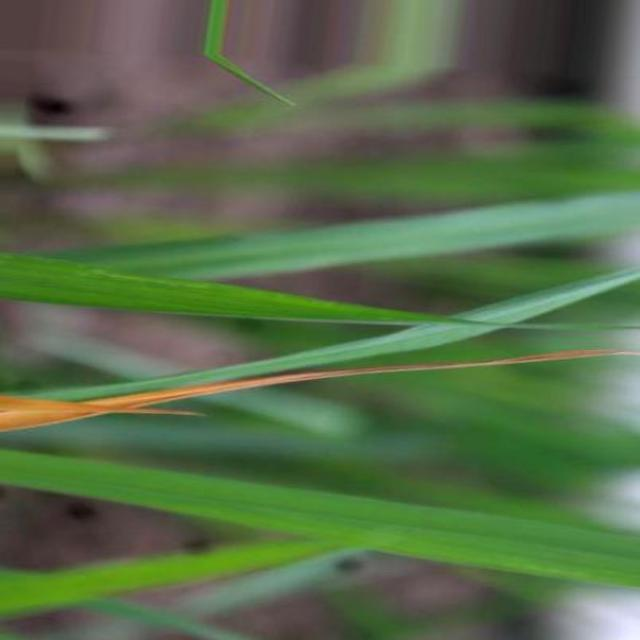Rice Tungro: (0, 350, 639, 431)
